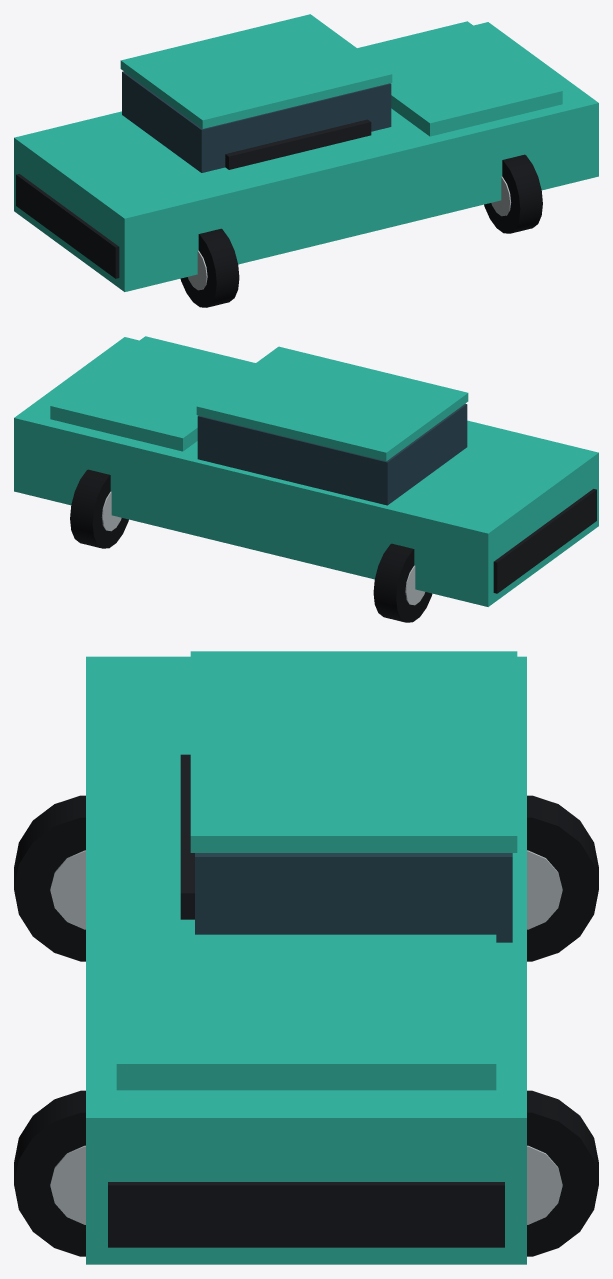
File: ford_escort.glb
The picture shows the model from 3 angles, top to bottom: view 1: azimuth 30°, elevation 25°; view 2: azimuth 150°, elevation 25°; view 3: azimuth 270°, elevation 25°; orthographic projection. The views are drawn at different scales.
Parts seen in each view (by area): view 1: body, roof, hood, cabin, rear_bumper, rear_right_wheel, front_right_wheel, interior; view 2: body, roof, hood, cabin, rear_bumper, rear_left_wheel, front_left_wheel; view 3: body, roof, hood, cabin, front_bumper, rear_left_wheel, rear_right_wheel, front_left_wheel, front_right_wheel, interior.
Boxes of the visible parts, left/top/right/bottom form: body: left=14, top=22, right=598, bottom=291; roof: left=120, top=14, right=392, bottom=128; hood: left=357, top=21, right=562, bottom=136; cabin: left=122, top=71, right=391, bottom=172; rear_bumper: left=16, top=174, right=119, bottom=278; rear_right_wheel: left=180, top=228, right=239, bottom=307; front_right_wheel: left=484, top=154, right=542, bottom=233; interior: left=225, top=119, right=371, bottom=169; body: left=14, top=337, right=598, bottom=606; roof: left=196, top=346, right=468, bottom=461; hood: left=50, top=336, right=255, bottom=451; cabin: left=197, top=403, right=467, bottom=505; rear_bumper: left=493, top=489, right=596, bottom=593; rear_left_wheel: left=373, top=543, right=432, bottom=622; front_left_wheel: left=70, top=469, right=128, bottom=548; body: left=86, top=656, right=526, bottom=1264; roof: left=190, top=651, right=517, bottom=852; hood: left=116, top=934, right=496, bottom=1090; cabin: left=195, top=853, right=512, bottom=942; front_bumper: left=108, top=1182, right=504, bottom=1247; rear_left_wheel: left=527, top=795, right=598, bottom=961; rear_right_wheel: left=14, top=795, right=85, bottom=961; front_left_wheel: left=527, top=1090, right=598, bottom=1256; front_right_wheel: left=14, top=1090, right=85, bottom=1256; interior: left=180, top=754, right=194, bottom=919.
Bounding box in the file's own units: 4.67 × 1.48 × 2.47.
